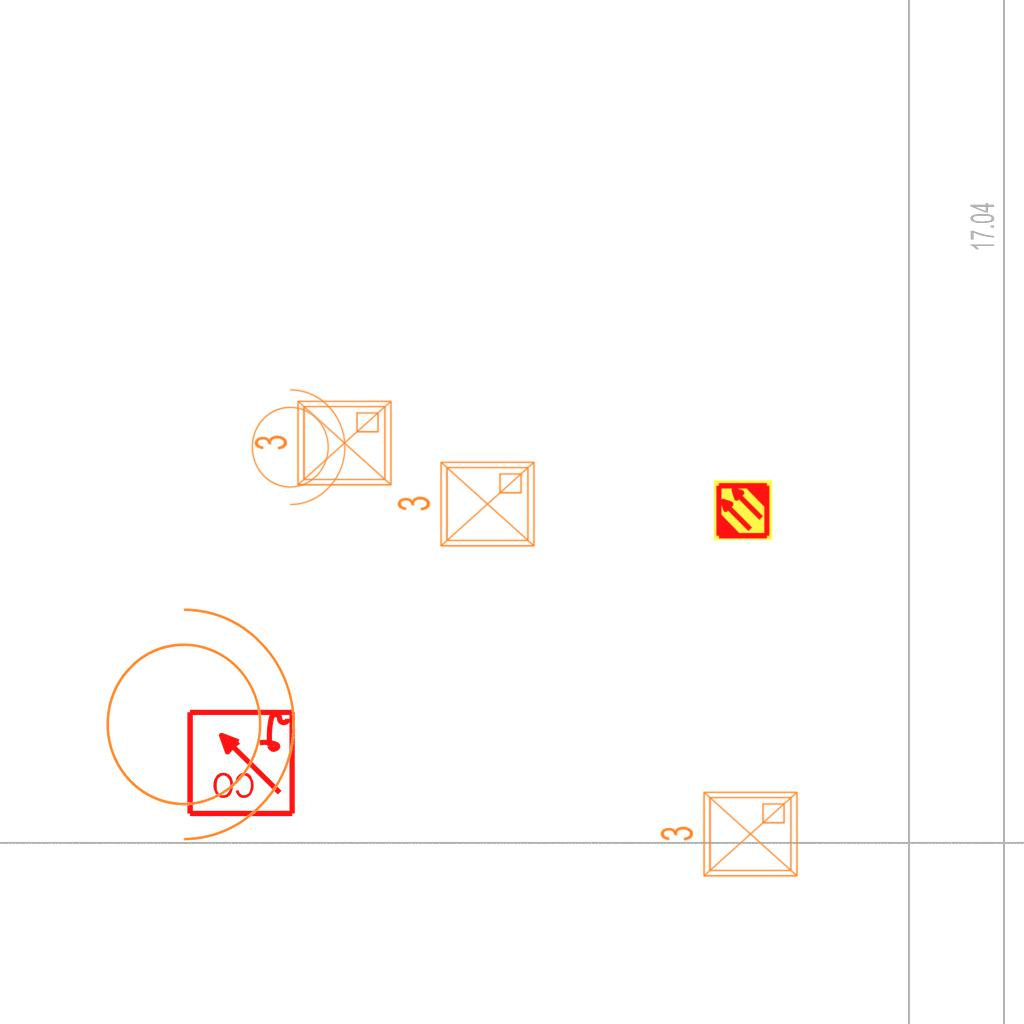ASR_Ansaugrauchmelder: (712, 479, 774, 541)
Einbaudownlights_LED_Konferenzraeume: (392, 454, 542, 558), (655, 784, 805, 888), (249, 393, 399, 497)
ROA_Rauchmelder_optisch_mit_Signalgeber_(Sockelsirene): (184, 705, 297, 818)
Scheinwerfer_fuer_Alarmbeleuchtung: (81, 586, 306, 850), (239, 378, 351, 510)
